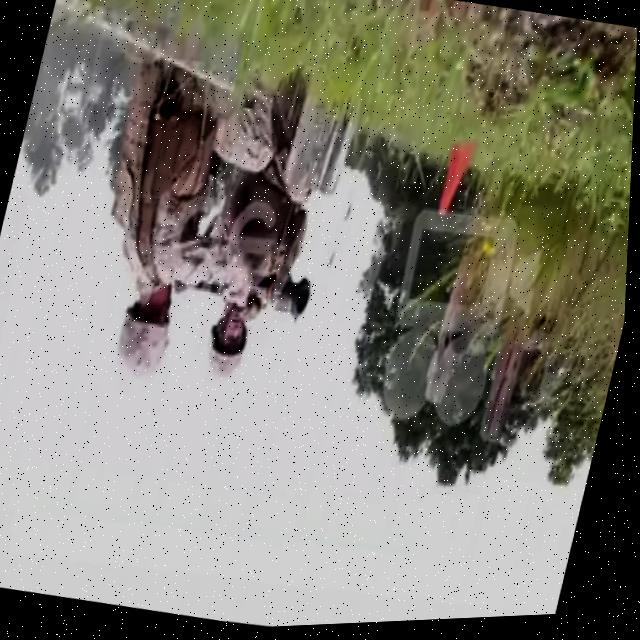rocket: (256, 273, 320, 322)
